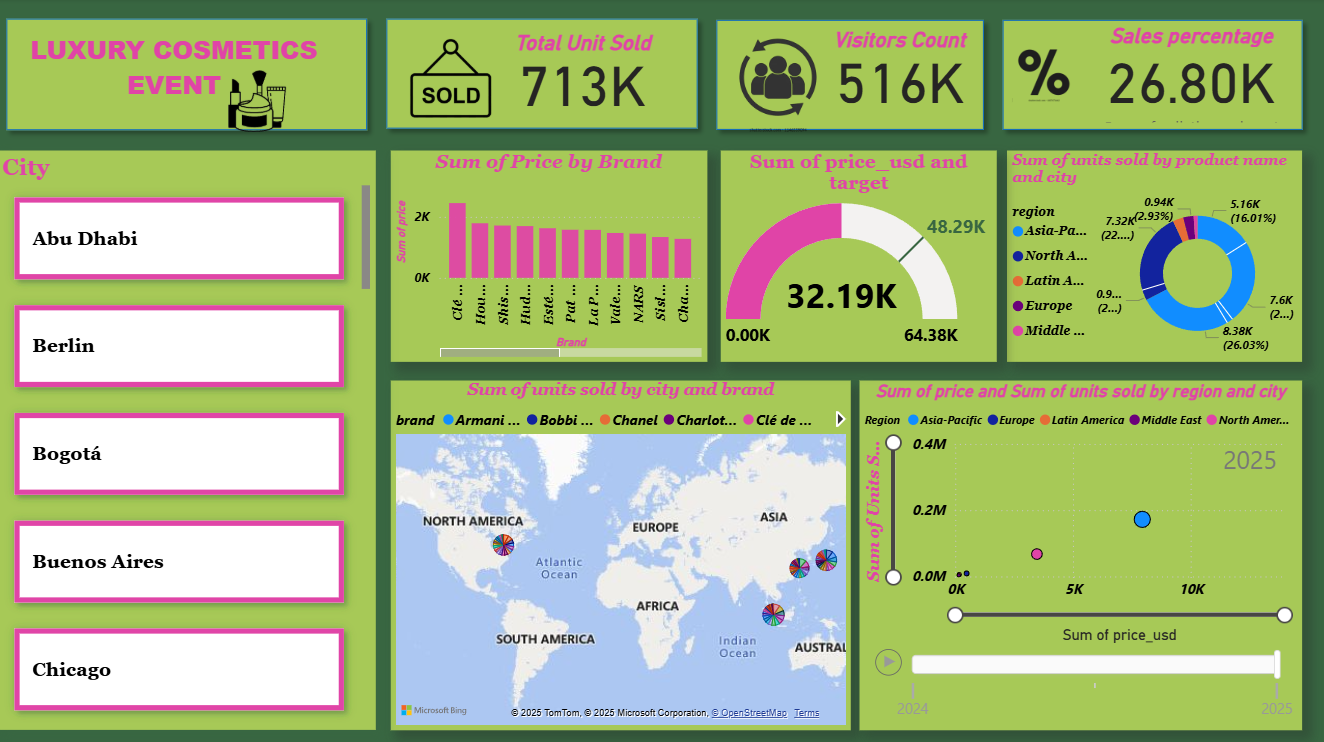

The page's visual inventory and layout, read from the dashboard file:
{"tool":"powerbi","page":{"name":"Page 1","canvas":[1280,720],"ordinal":0},"visuals":[{"type":"shape","box":[0,11.1,366.2,125.8],"z":0},{"type":"textbox","box":[26.5,27.7,288.3,79.6],"z":1000},{"type":"shape","box":[366.8,10.9,318.5,124.3],"z":2000},{"type":"shape","box":[685.3,12.1,276.3,124.3],"z":3000},{"type":"shape","box":[961.5,12.1,307.6,124.3],"z":4000},{"type":"card","title":"Visitors Count","fields":{"Values":["Sum(luxury_cosmetics_popups.avg_daily_footfall)"]},"box":[793.8,27.7,154.4,94.1],"z":5000},{"type":"image","box":[702.1,24.1,103.8,112.2],"z":6000},{"type":"card","title":"Total Unit Sold ","fields":{"Values":["Sum(luxury_cosmetics_popups.units_sold)"]},"box":[457.2,31.4,216,91.7],"z":7000},{"type":"card","title":"Sales percentage","fields":{"Values":["Sum(luxury_cosmetics_popups.sell_through_pct)"]},"box":[1046,24.1,213.5,101.3],"z":8000},{"type":"image","box":[349.9,20.5,176.1,113.4],"z":9000},{"type":"image","box":[974.8,27.7,71.2,90.5],"z":10000},{"type":"columnChart","title":"Sum of Price by Brand","fields":{"Category":["luxury_cosmetics_popups.brand"],"Y":["Sum(luxury_cosmetics_popups.price_usd)"]},"box":[380,147.2,305.2,203.9],"z":11000},{"type":"donutChart","title":"Sum of units sold by product name and city","fields":{"Category":["EVENT.region"],"Series":["EVENT.city"],"Y":["Sum(EVENT.price_usd)"]},"box":[974.8,147.2,284.7,203.9],"z":12000},{"type":"map","title":"Sum of units sold by city and brand","fields":{"Category":["EVENT.city"],"Series":["EVENT.brand"],"Size":["Sum(EVENT.units_sold)"]},"box":[380,369.2,444,337.8],"z":13000},{"type":"scatterChart","title":"Sum of price and Sum of units sold by region and city","fields":{"Series":["EVENT.region"],"Size":["Sum(EVENT.units_sold)"],"X":["Sum(EVENT.price_usd)"],"Y":["Sum(EVENT.units_sold)"],"Play":["EVENT.year"]},"box":[832.4,369.2,427.1,337.8],"z":14000},{"type":"image","box":[199.1,65.1,103.8,68.8],"z":15000},{"type":"advancedSlicerVisual","title":"City","fields":{"Values":["EVENT.city"]},"box":[0,147.2,365.6,559],"z":16000},{"type":"gauge","fields":{"Y":["Sum(EVENT.price_usd)"],"TargetValue":["EVENT.target"]},"box":[698.5,147.2,266.6,203.9],"z":17000}]}

Visuals, with their boxes in screenshot pixels (x1, y1, x2, y2), scaled from the page's 1280x720 canvas onto the 1324x742 screenshot:
shape: box(0, 11, 379, 141)
textbox: box(27, 29, 326, 111)
shape: box(379, 11, 709, 139)
shape: box(709, 12, 995, 141)
shape: box(995, 12, 1313, 141)
"Visitors Count" card: box(821, 29, 981, 126)
image: box(726, 25, 834, 140)
"Total Unit Sold " card: box(473, 32, 696, 127)
"Sales percentage" card: box(1082, 25, 1303, 129)
image: box(362, 21, 544, 138)
image: box(1008, 29, 1082, 122)
"Sum of Price by Brand" columnChart: box(393, 152, 709, 362)
"Sum of units sold by product name and city" donutChart: box(1008, 152, 1303, 362)
"Sum of units sold by city and brand" map: box(393, 380, 852, 729)
"Sum of price and Sum of units sold by region and city" scatterChart: box(861, 380, 1303, 729)
image: box(206, 67, 313, 138)
"City" advancedSlicerVisual: box(0, 152, 378, 728)
gauge - Sum(EVENT.price_usd) x EVENT.target: box(723, 152, 998, 362)
